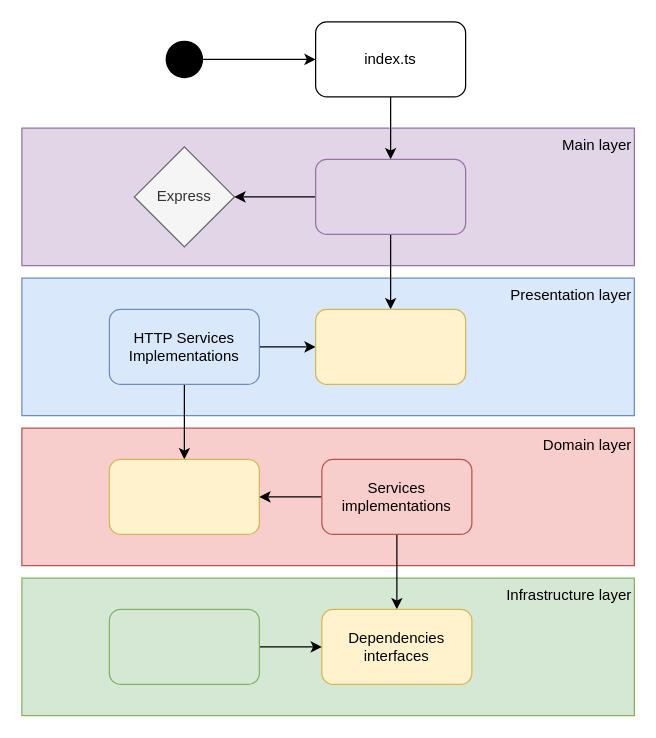
Some shapes in this 656 by 738 pixel diagram are drawn without their labels. The shapes that lost their labels are listed below. From the top down, each one's centre as x and y in pixels, then its label:
At (390,196): "RESTful Routes".
At (390,346): "HTTP Services Interfaces".
At (183,496): "Services interfaces".
At (183,646): "Dependencies Implementations".
